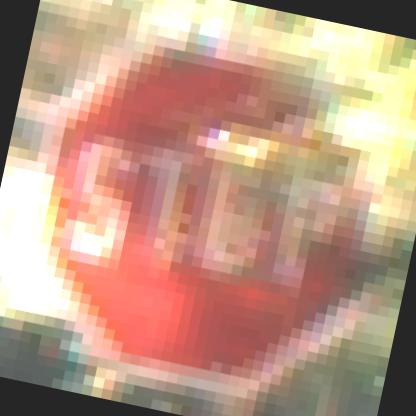stop: (11, 37, 414, 400)
